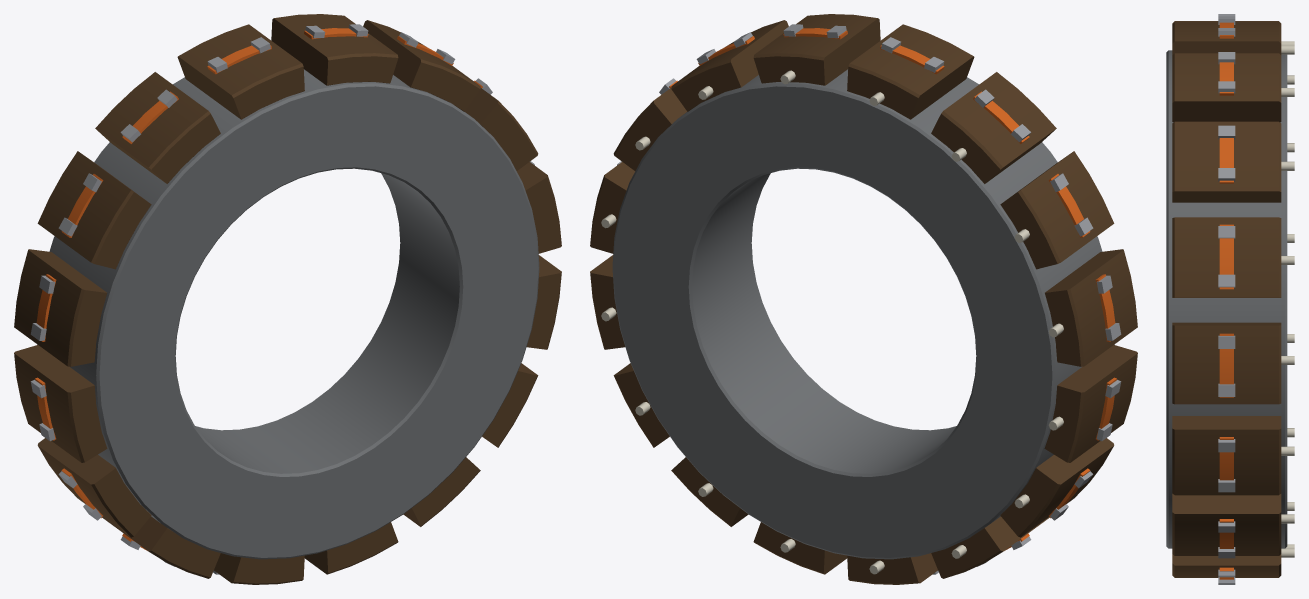
The model's file is u73l_coil_ring.obj.
3 views of the same model, side by side, from view 1: azimuth 30°, elevation 25°; view 2: azimuth 150°, elevation 25°; view 3: azimuth 270°, elevation 25° (orthographic). The views are drawn at different scales.
Visible parts, largest first — view 1: u73l_coil_ring; view 2: u73l_coil_ring; view 3: u73l_coil_ring.
Part boxes in pixels (x1=…): u73l_coil_ring: x1=14, y1=14, x2=561, y2=584; u73l_coil_ring: x1=590, y1=14, x2=1137, y2=584; u73l_coil_ring: x1=1166, y1=14, x2=1294, y2=584.
Size of the model in its own units: 4.7 by 4.7 by 1.06.
